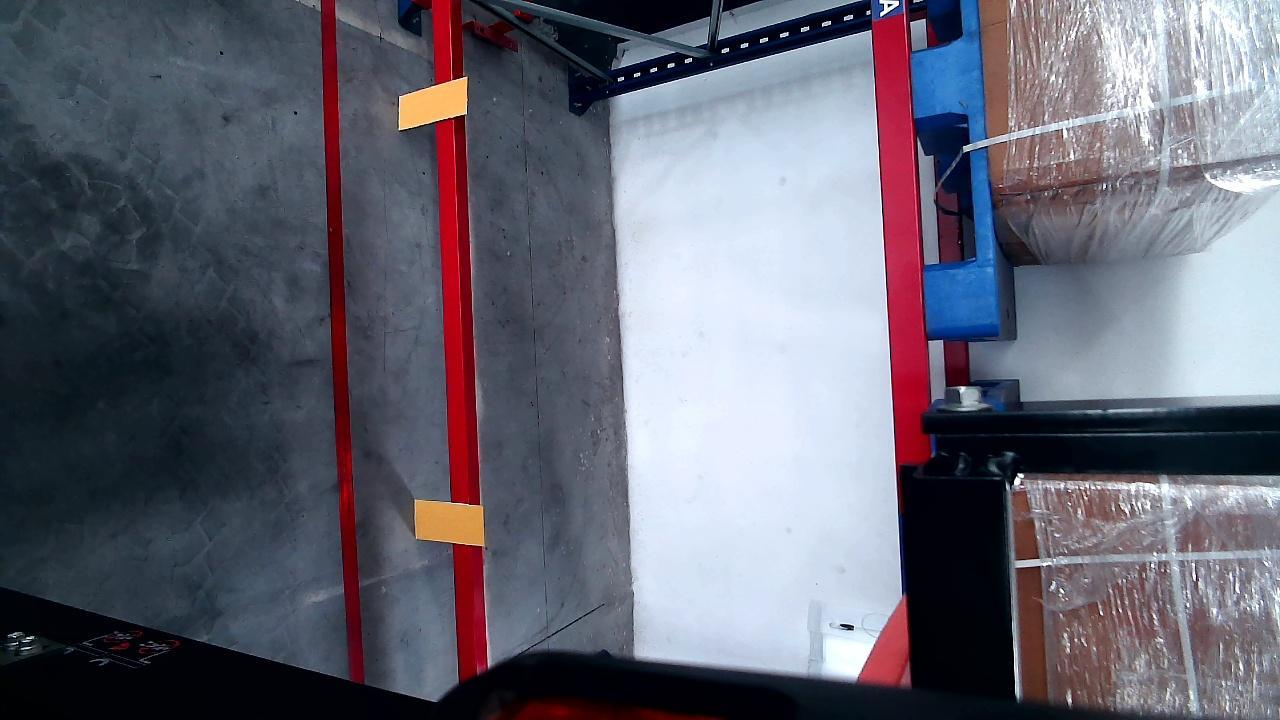red_line: (321, 0, 362, 699)
